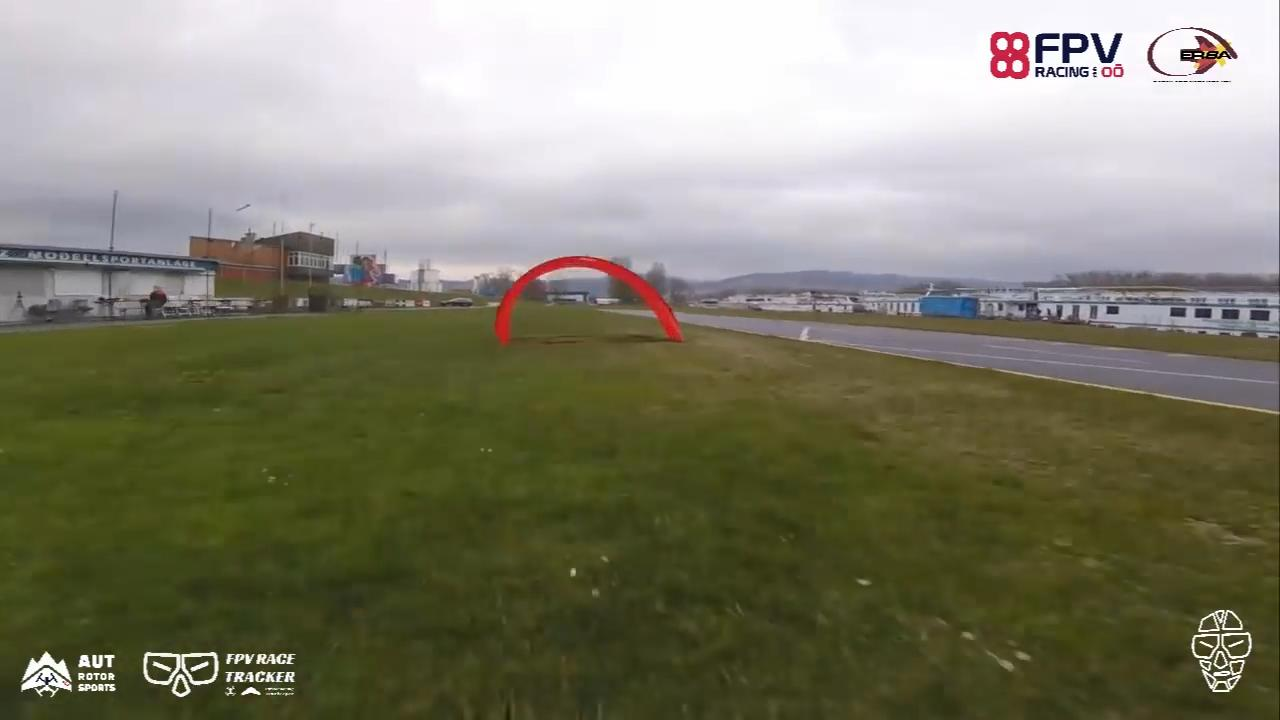gate: (488, 254, 685, 347)
